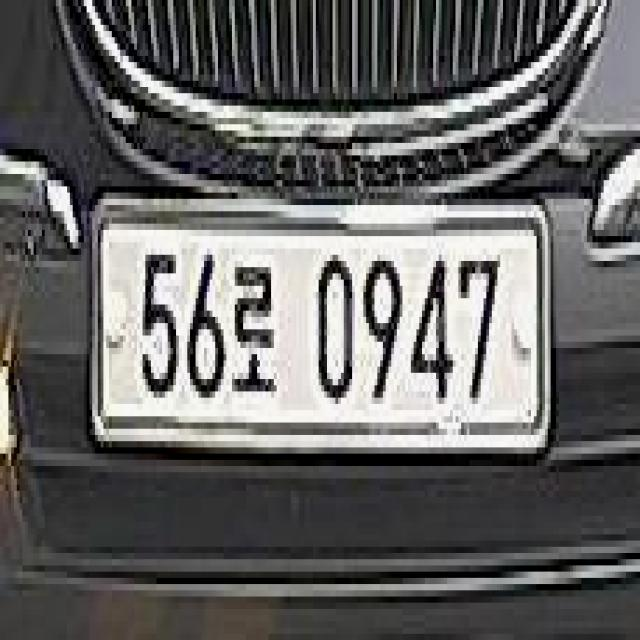illegal_plate: (93, 188, 548, 472)
